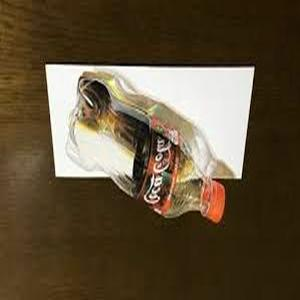Plastic: (59, 72, 229, 225)
